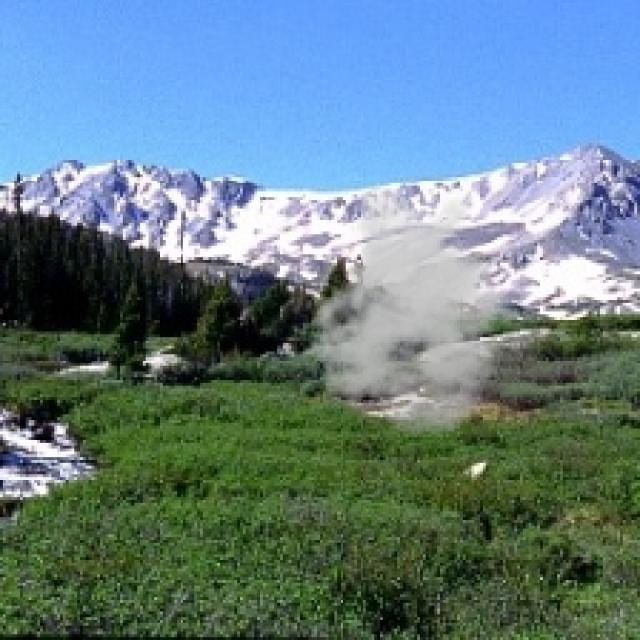smoke: (297, 186, 532, 437)
